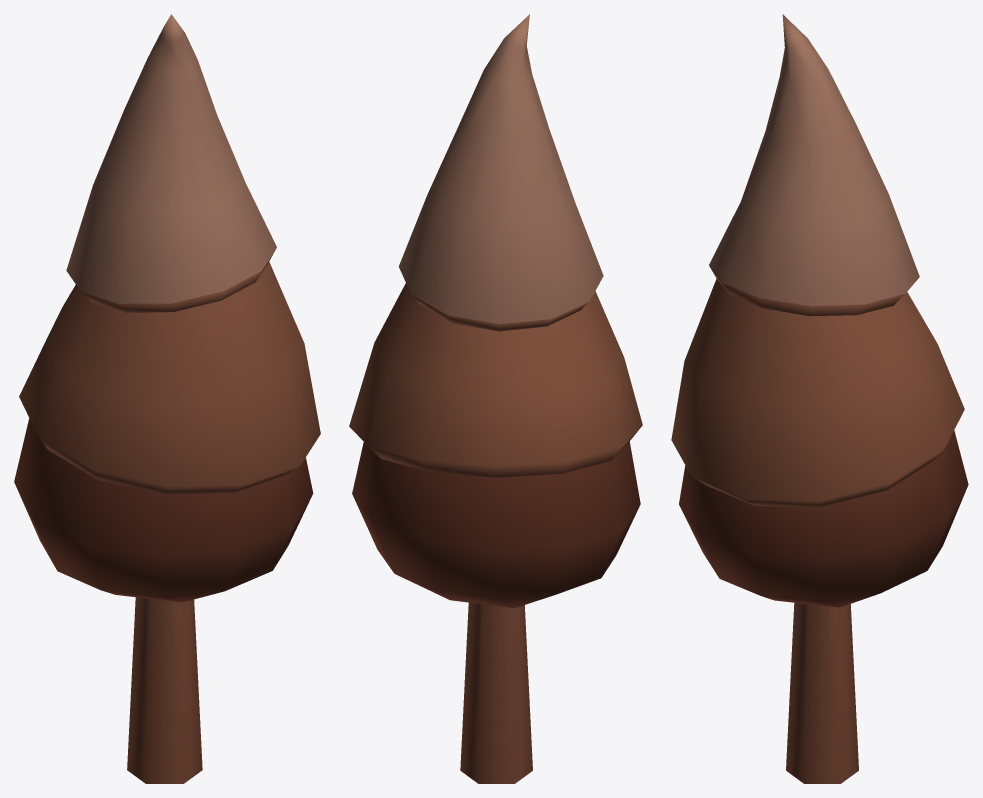
Rendered from TreeChocolate_01.glb.
3 views of the same model, side by side, from view 1: azimuth 30°, elevation 25°; view 2: azimuth 150°, elevation 25°; view 3: azimuth 270°, elevation 25° (orthographic). The views are drawn at different scales.
Visible parts, largest first — view 1: TreeChocolate_01; view 2: TreeChocolate_01; view 3: TreeChocolate_01.
Boxes of the visible parts, x1,y1,x2,y2 form: TreeChocolate_01: (14, 14, 320, 783); TreeChocolate_01: (349, 14, 642, 783); TreeChocolate_01: (671, 14, 968, 783).
Bounding box in the file's own units: 2.29 × 6.41 × 2.3.
1 material, 1 textured.
